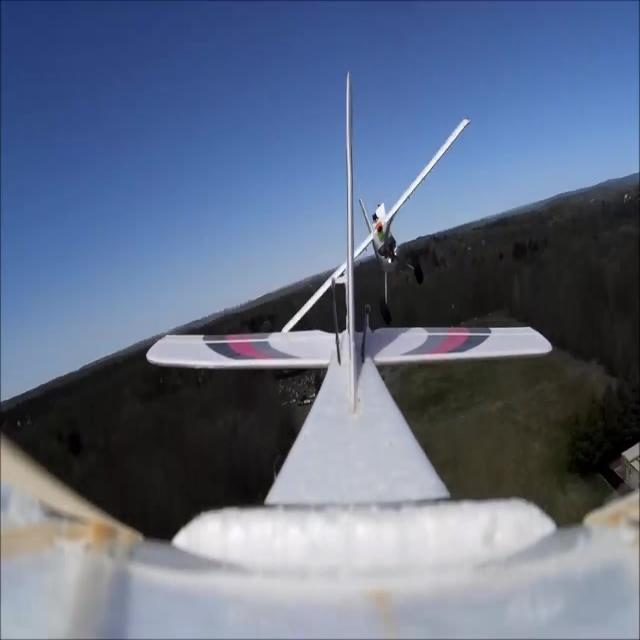iha: (280, 118, 471, 334)
